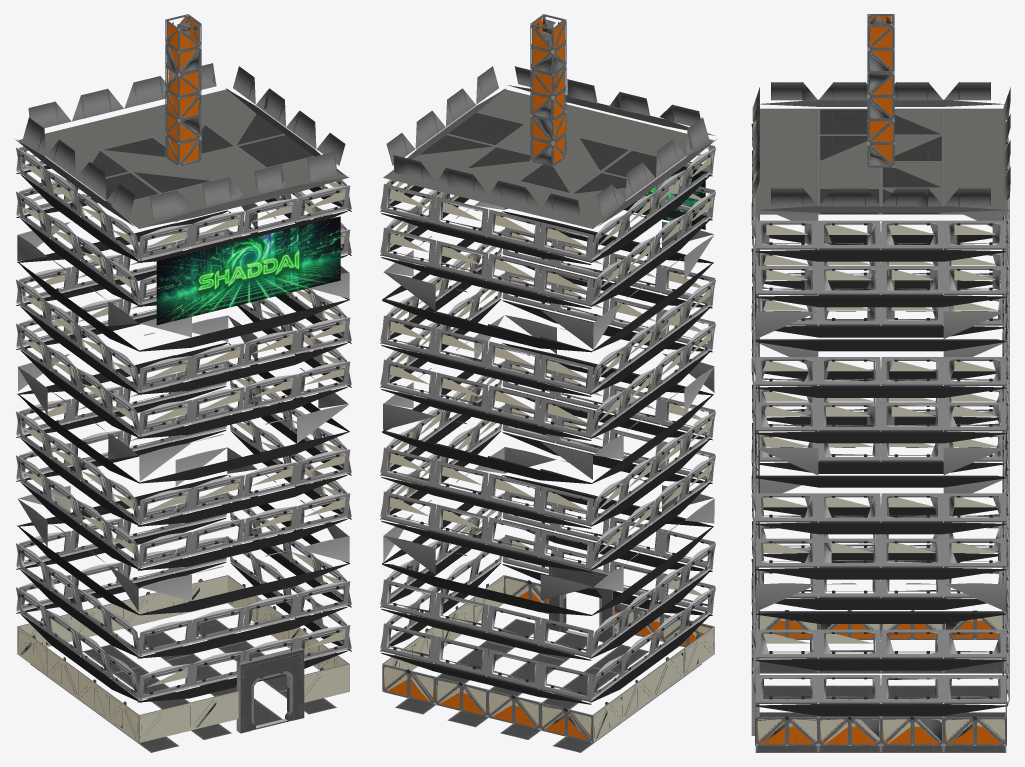
File: sc-civic-tower-lod1.glb
The picture shows the model from 3 angles, left to right: view 1: azimuth 30°, elevation 25°; view 2: azimuth 150°, elevation 25°; view 3: azimuth 270°, elevation 25°; orthographic projection. The views are drawn at different scales.
Parts seen in each view (by area): view 1: sc-civic-tower; view 2: sc-civic-tower; view 3: sc-civic-tower.
Boxes of the visible parts, left/top/right/bottom form: sc-civic-tower: left=15, top=14, right=351, bottom=752; sc-civic-tower: left=380, top=14, right=716, bottom=752; sc-civic-tower: left=751, top=14, right=1010, bottom=752.
Size of the model in its own units: 16.57 by 48.4 by 16.88.
7 materials, 6 textured.
